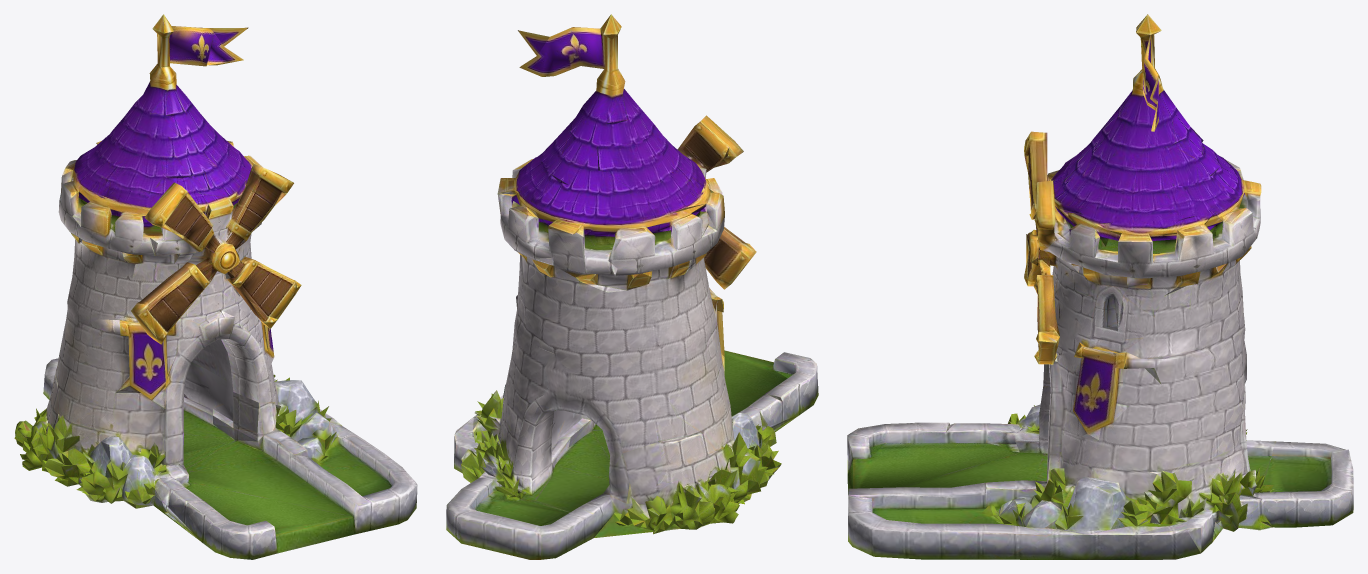
File: golf-windmill.glb
3 views of the same model, side by side, from view 1: azimuth 30°, elevation 25°; view 2: azimuth 150°, elevation 25°; view 3: azimuth 270°, elevation 25° (orthographic). The views are drawn at different scales.
Bounding box in the file's own units: 1.28 × 2 × 1.93.
Materials: 1 (1 with a texture image).
